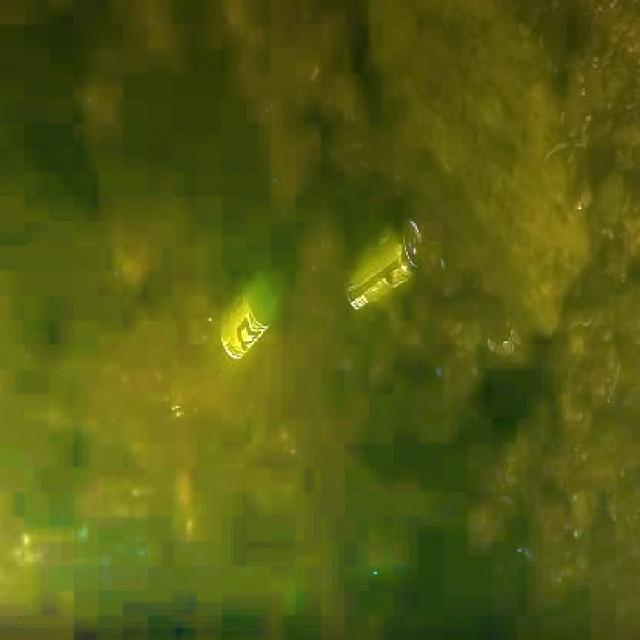Glass: (212, 231, 313, 419)
Metal: (330, 190, 461, 342)
